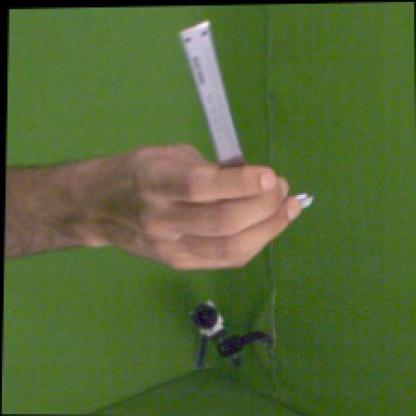Hand: (77, 144, 302, 272)
